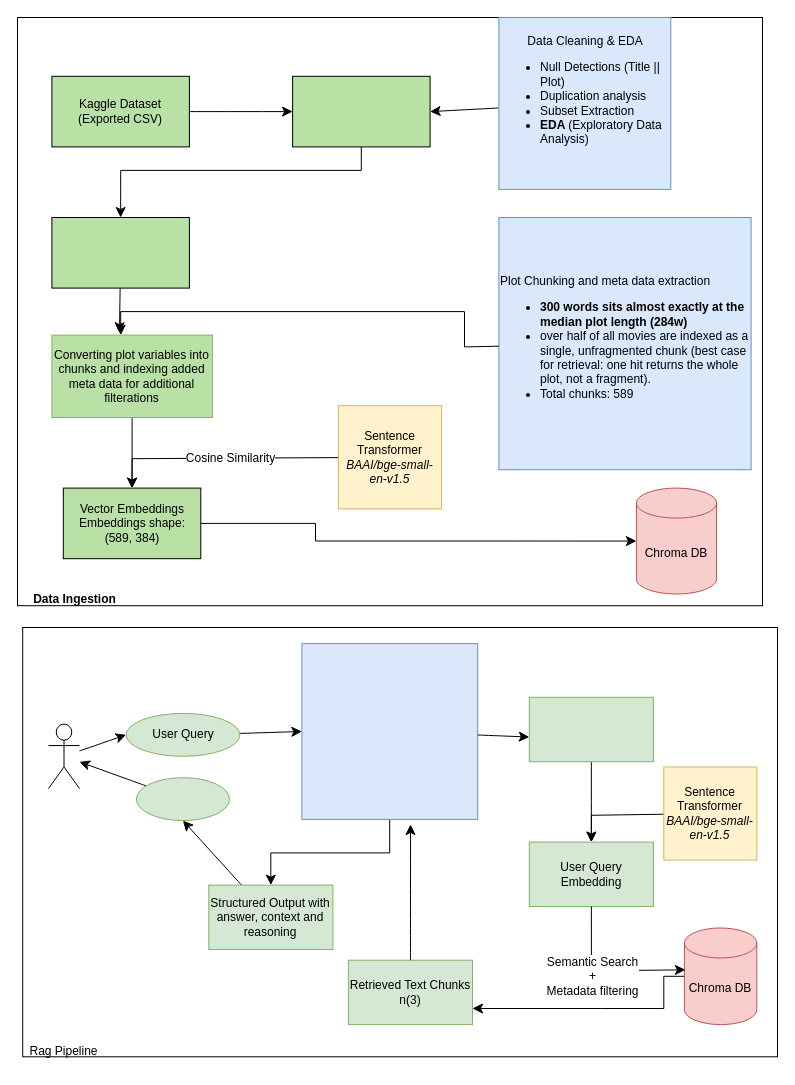
This 795x1085 diagram has some shape labels left out. Each missing label, with the box of its shape:
Actor: (48, 723, 80, 788)
Cleaned Dataset: (51, 216, 189, 288)
Final Output: (135, 777, 230, 821)
LLM Gemini 3.5 flash lite (retry on error): (301, 643, 478, 819)
Pandas DataFrame: (292, 75, 430, 147)
Structured Request Call with filled metadata: (528, 696, 653, 762)
